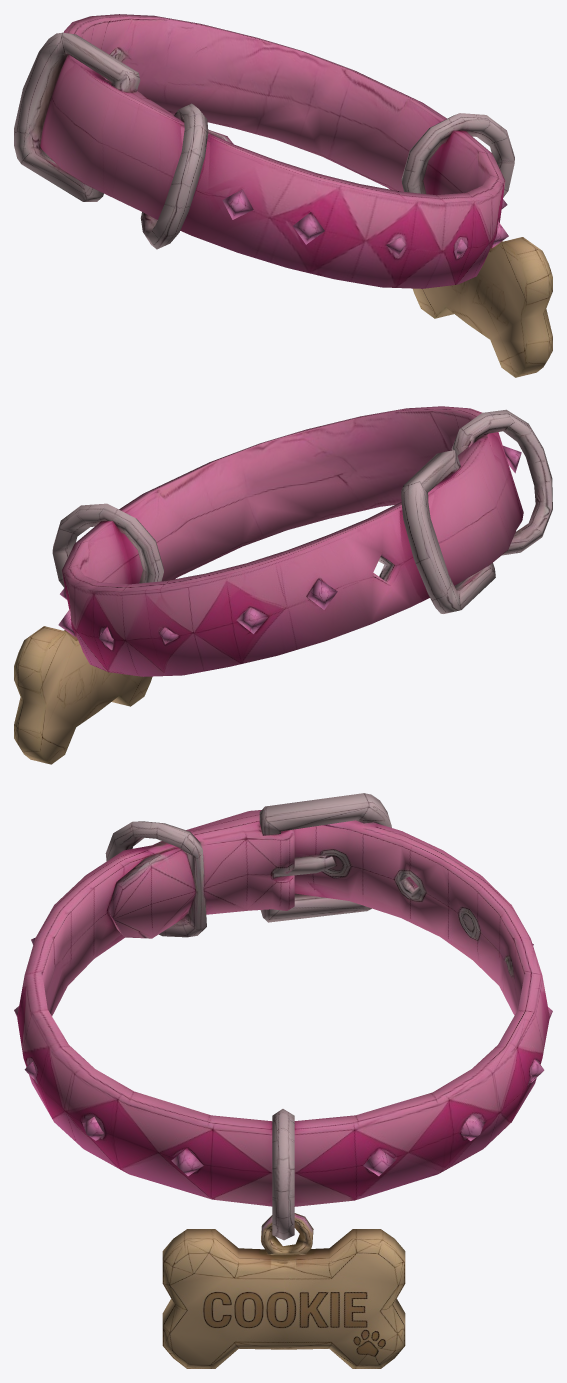
File: cookie_collar.glb
The picture shows the model from 3 angles, top to bottom: view 1: azimuth 30°, elevation 25°; view 2: azimuth 150°, elevation 25°; view 3: azimuth 270°, elevation 25°; orthographic projection. The views are drawn at different scales.
Visible parts, largest first — view 1: tripo_node_80f1e9b2-df87-41fe-8e9e-fbf4c7681596; view 2: tripo_node_80f1e9b2-df87-41fe-8e9e-fbf4c7681596; view 3: tripo_node_80f1e9b2-df87-41fe-8e9e-fbf4c7681596.
Part boxes in pixels (left/top/right/bottom): tripo_node_80f1e9b2-df87-41fe-8e9e-fbf4c7681596: left=14, top=14, right=552, bottom=377; tripo_node_80f1e9b2-df87-41fe-8e9e-fbf4c7681596: left=14, top=406, right=552, bottom=764; tripo_node_80f1e9b2-df87-41fe-8e9e-fbf4c7681596: left=14, top=793, right=552, bottom=1368.
Bounding box in the file's own units: 0.998 × 0.7793 × 0.998.
Materials: 1 (1 with a texture image).
